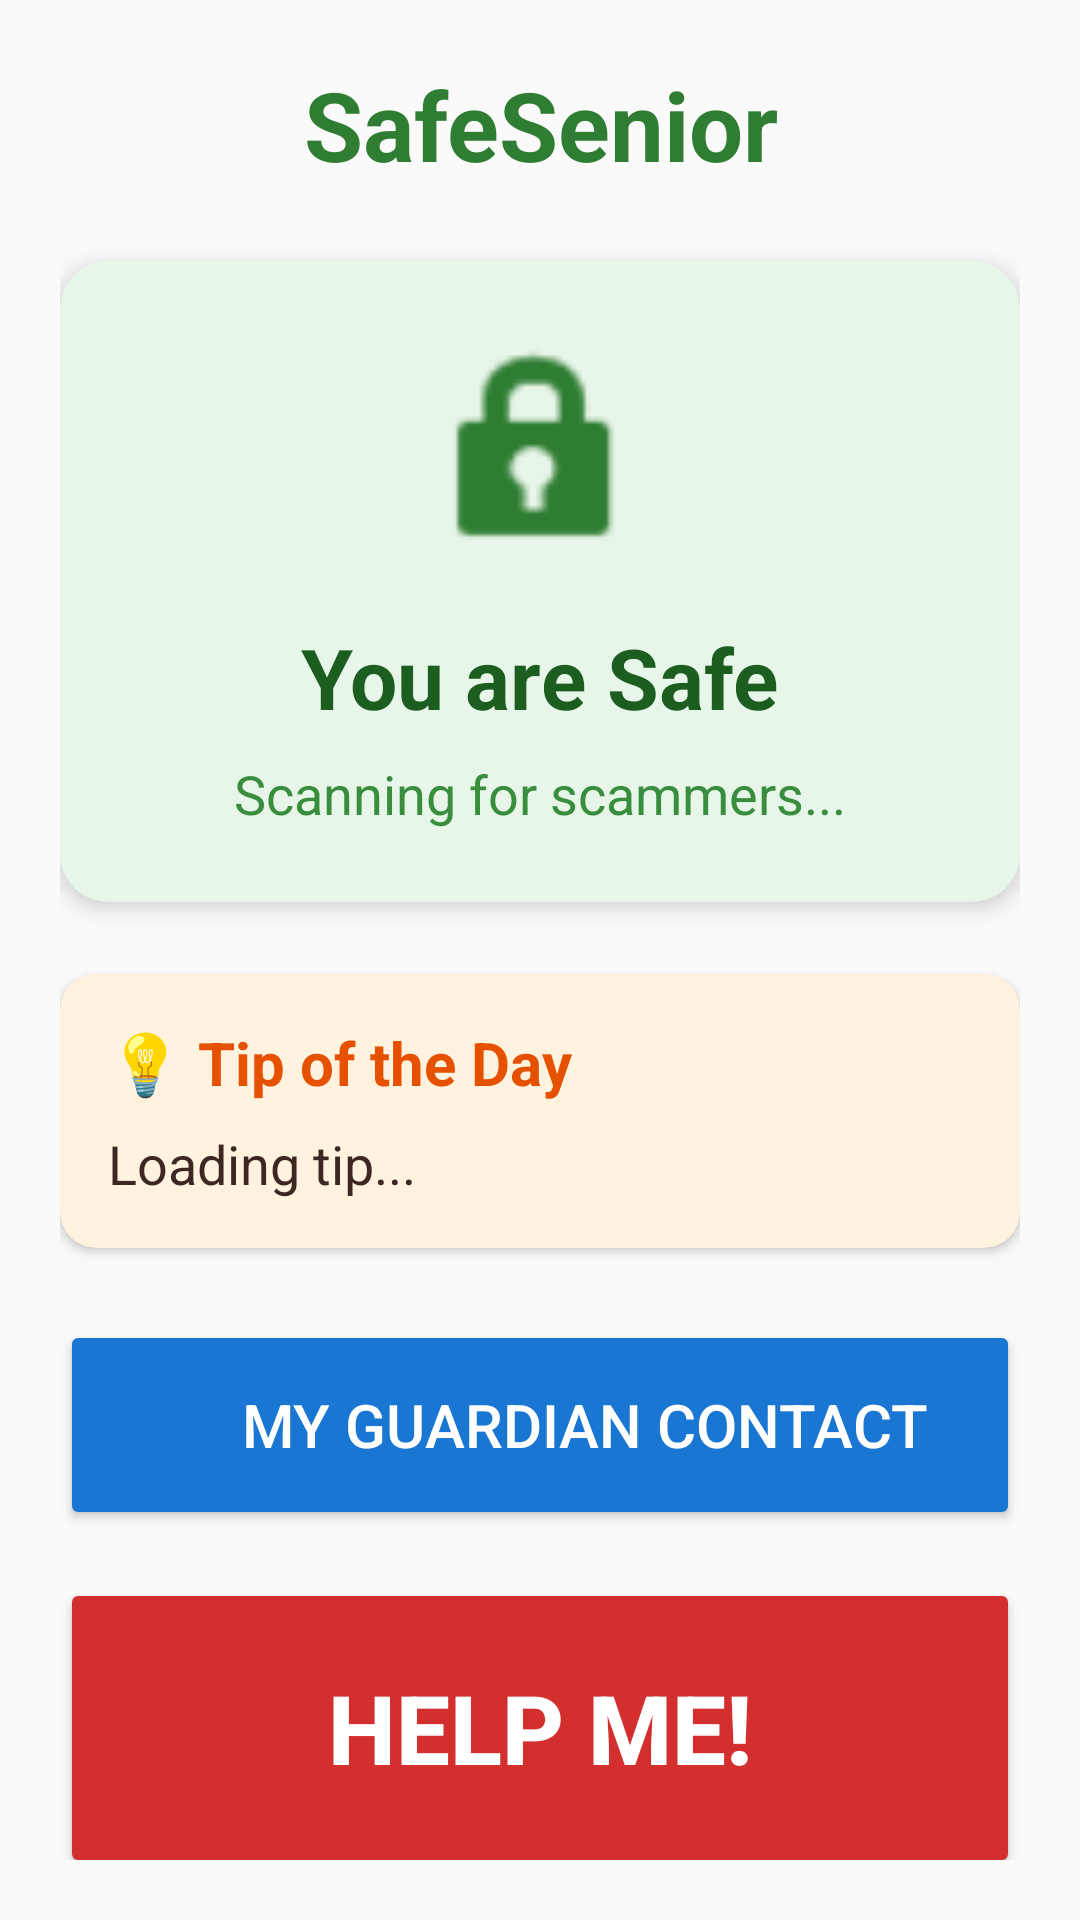

Where to tap for icons on this 1080 × 1920 app screen, as (x=x, y=y):
lock idle: (x=534, y=445)
